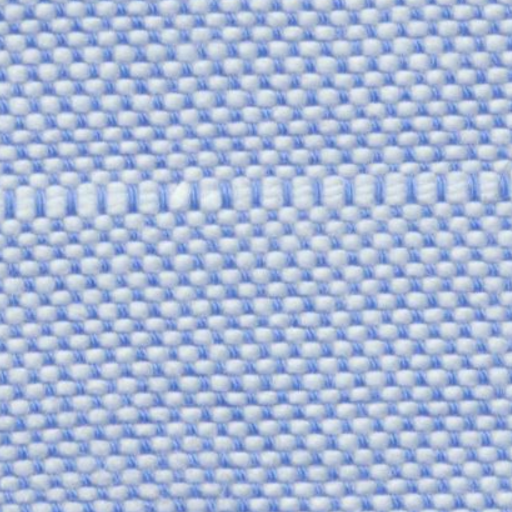TuoSha: (12, 142, 490, 243)
